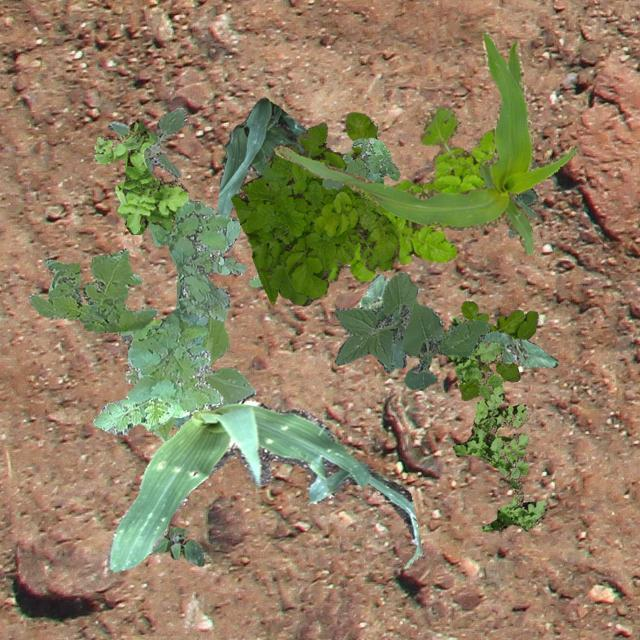crop: (273, 30, 576, 254), (105, 398, 424, 570), (123, 314, 255, 440), (216, 96, 304, 216), (480, 329, 558, 366), (358, 272, 388, 312)
weed: (92, 198, 245, 434), (230, 110, 398, 304), (326, 106, 494, 282), (447, 314, 548, 530), (334, 271, 489, 388), (91, 118, 188, 234), (26, 248, 158, 332), (458, 300, 538, 400), (108, 106, 186, 176), (322, 136, 398, 188), (508, 162, 536, 236), (150, 526, 203, 564), (248, 272, 262, 286)
